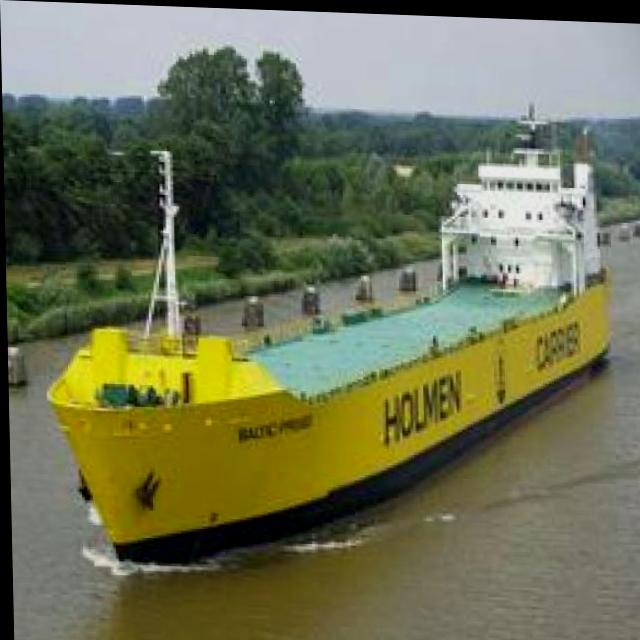ship2: (45, 99, 611, 564)
